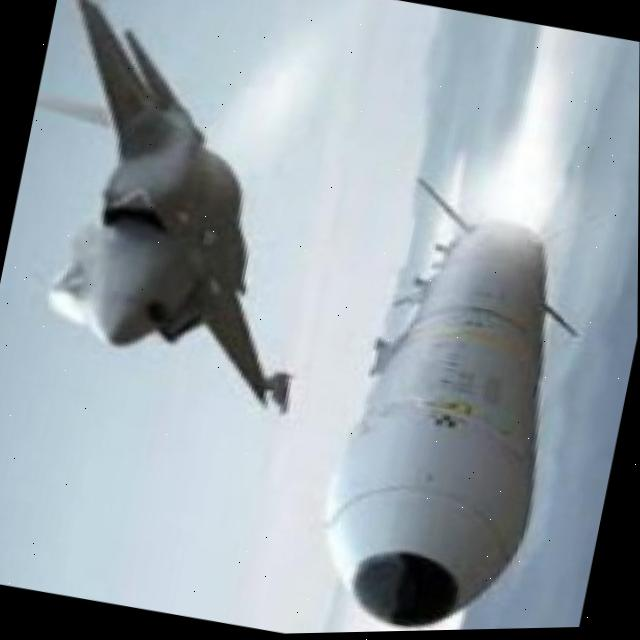missile: (294, 168, 601, 635)
